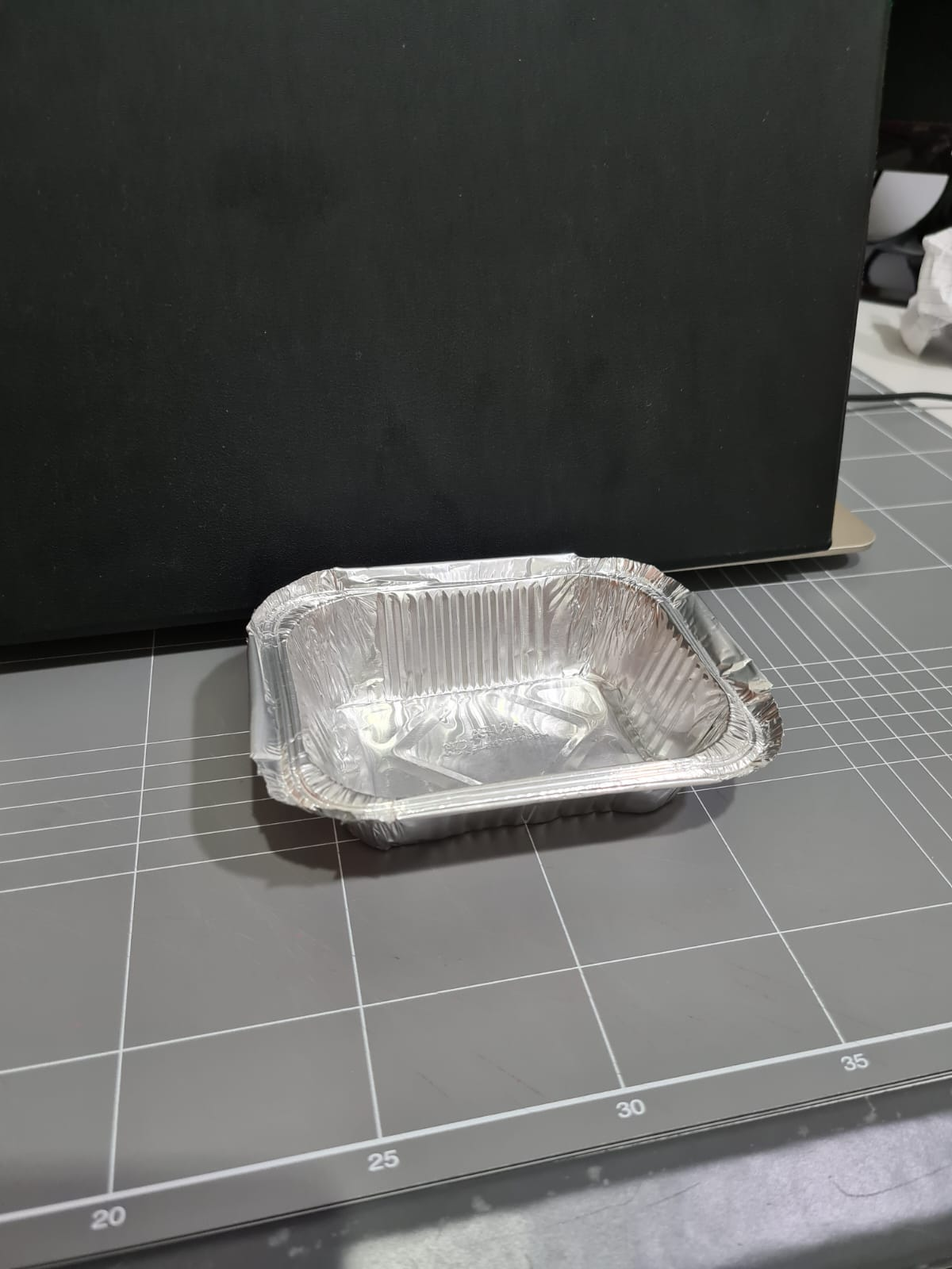Metal: (207, 545, 806, 884)
